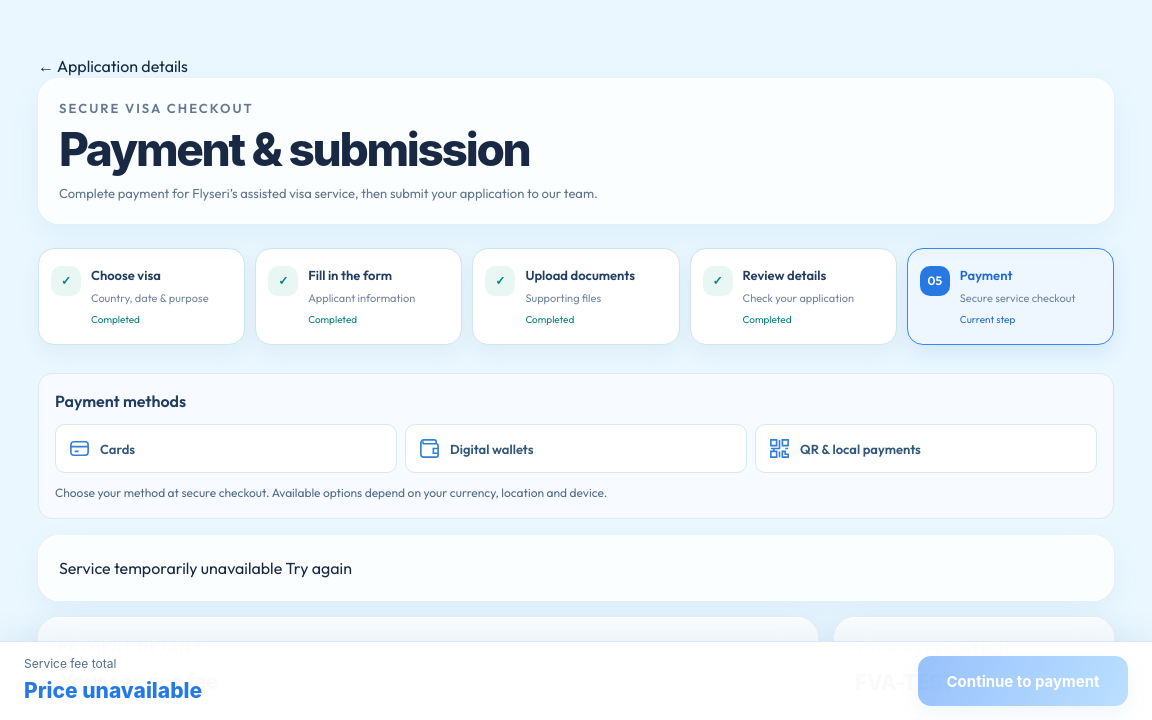
visa payment before submission › shows a recoverable loading error without claiming a fee is missing
Check: the heading "Your service fee" is shown, box [59, 669, 218, 694]
Check: the message shows "Service temporarily unavailable", box [59, 558, 282, 578]
Click the button "Try again" at x=319, y=568, box [286, 556, 352, 580]
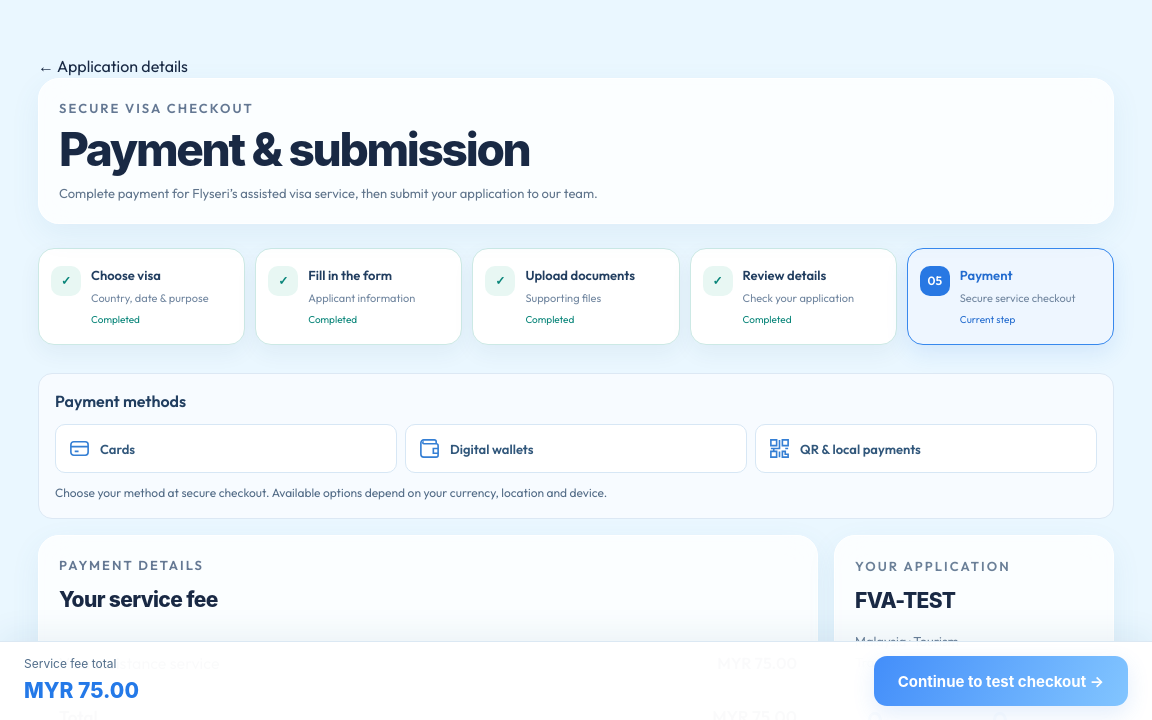
Check: the message "Service temporarily unavailable Try again" is gone
